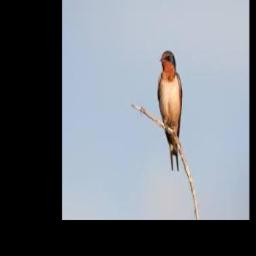Swallow: (158, 50, 182, 170)
